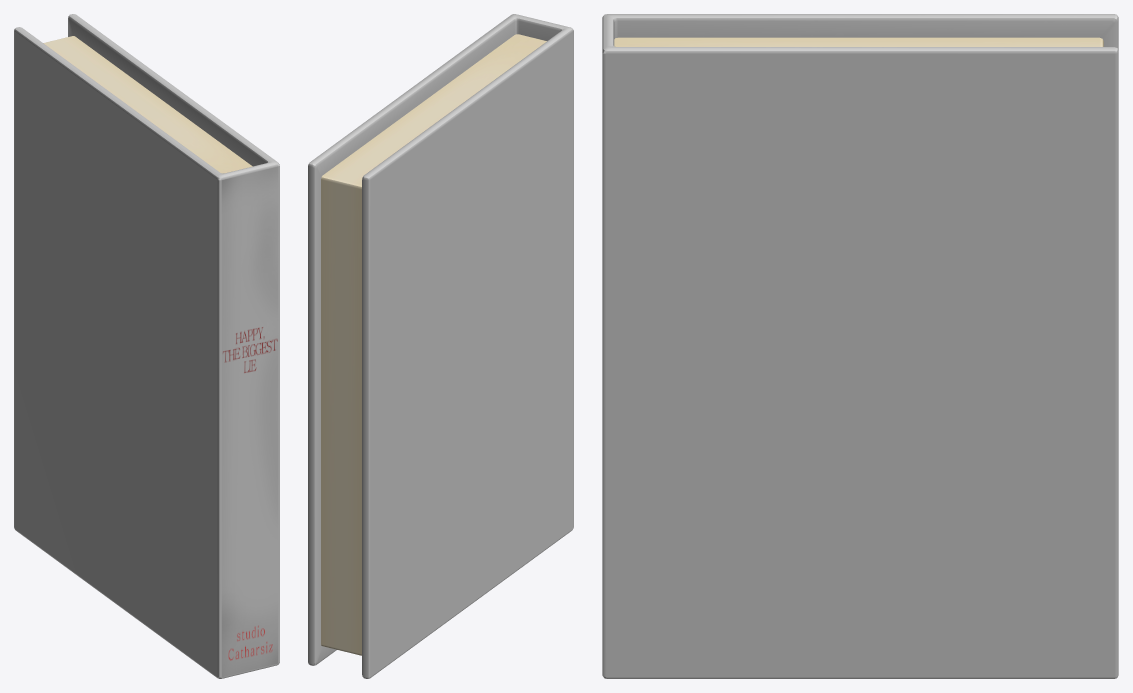
The model's file is Aato_book2.fbx.
The picture shows the model from 3 angles, left to right: view 1: azimuth 30°, elevation 25°; view 2: azimuth 150°, elevation 25°; view 3: azimuth 270°, elevation 25°; orthographic projection. The views are drawn at different scales.
Visible parts, largest first — view 1: aatobook15; view 2: aatobook15; view 3: aatobook15.
Boxes of the visible parts, x1=… form: aatobook15: x1=14, y1=14, x2=279, y2=678; aatobook15: x1=308, y1=14, x2=573, y2=678; aatobook15: x1=602, y1=14, x2=1118, y2=678.
Size of the model in its own units: 0.0015 by 0.0116 by 0.00863.
1 material, 1 textured.
